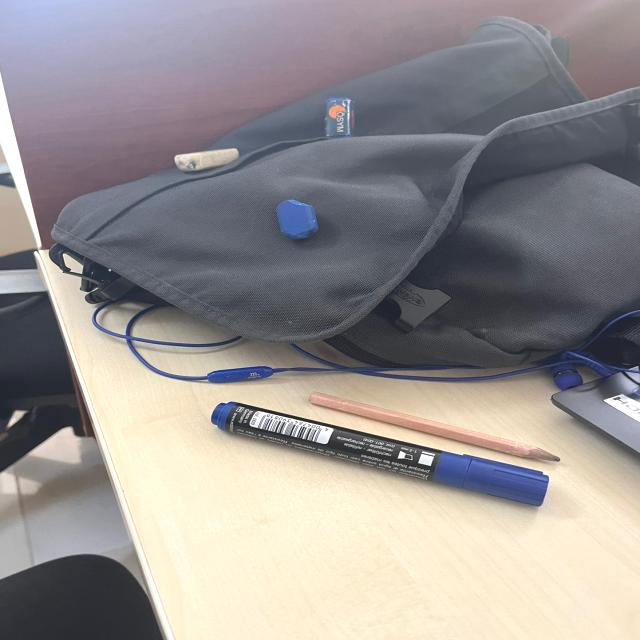eraser: (158, 136, 264, 174), (267, 188, 325, 242), (313, 92, 361, 134)
pencil: (192, 392, 562, 538), (297, 379, 586, 476)
